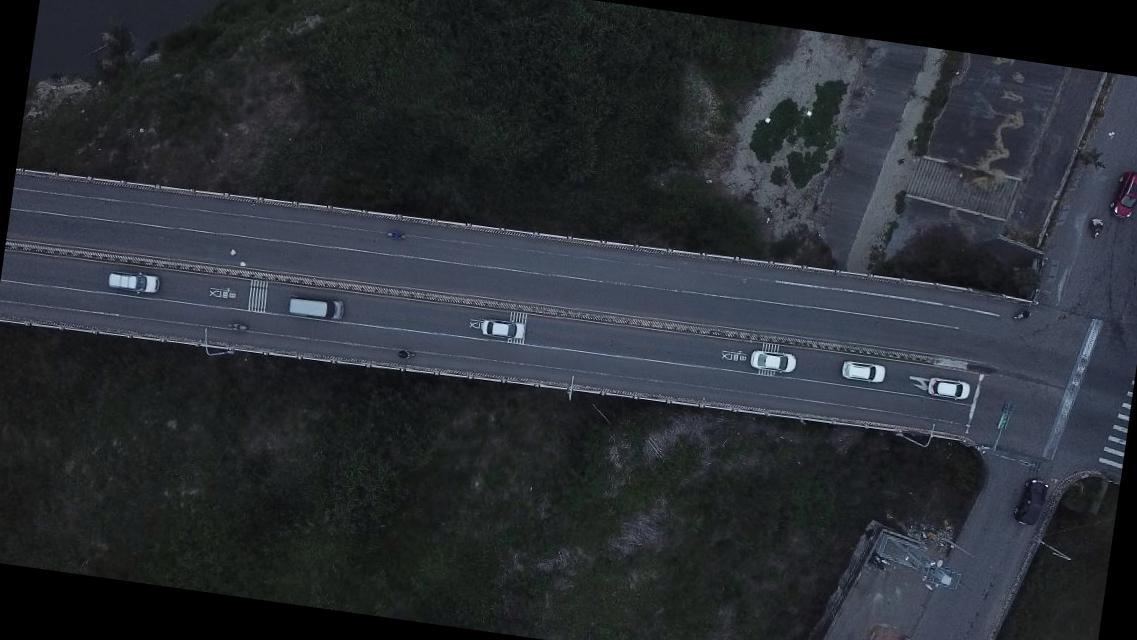vehicle: (1012, 478, 1051, 530), (286, 293, 346, 322), (106, 268, 162, 298), (838, 354, 890, 386), (750, 348, 799, 377), (926, 377, 973, 407), (1110, 169, 1136, 223), (481, 317, 526, 342)
